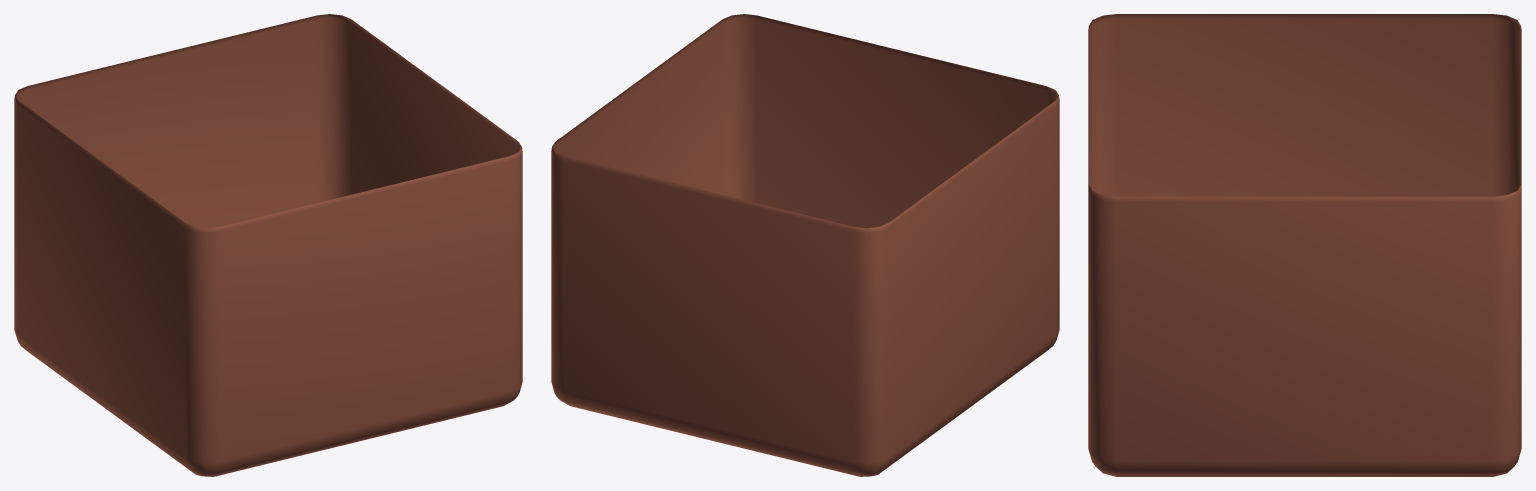
The model's file is dirt.fbx.
3 renders of one model, left to right at view 1: azimuth 30°, elevation 25°; view 2: azimuth 150°, elevation 25°; view 3: azimuth 270°, elevation 25°, orthographic. The views are drawn at different scales.
Parts seen in each view (by area): view 1: tileHigh_desert; view 2: tileHigh_desert; view 3: tileHigh_desert.
Boxes of the visible parts, x1,y1,x2,y2 form: tileHigh_desert: (14, 14, 522, 476); tileHigh_desert: (551, 14, 1059, 476); tileHigh_desert: (1088, 14, 1521, 476).
Size of the model in its own units: 200 by 147 by 200.
